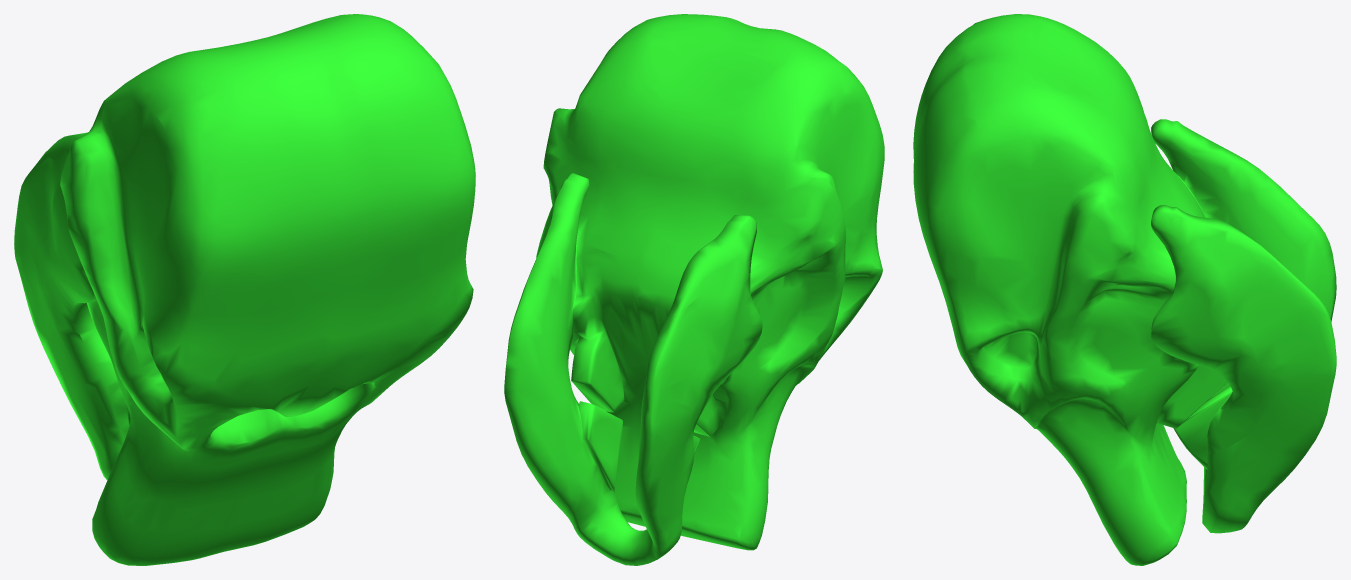
The model's file is Elephantskull.obj.
The picture shows the model from 3 angles, left to right: view 1: azimuth 30°, elevation 25°; view 2: azimuth 150°, elevation 25°; view 3: azimuth 270°, elevation 25°; orthographic projection. The views are drawn at different scales.
Visible parts, largest first — view 1: Elephantskull; view 2: Elephantskull; view 3: Elephantskull.
Boxes of the visible parts, left/top/right/bottom form: Elephantskull: left=14, top=14, right=475, bottom=565; Elephantskull: left=504, top=14, right=884, bottom=565; Elephantskull: left=913, top=14, right=1336, bottom=565.
Bounding box in the file's own units: 0.6585 × 1.01 × 0.7995.
